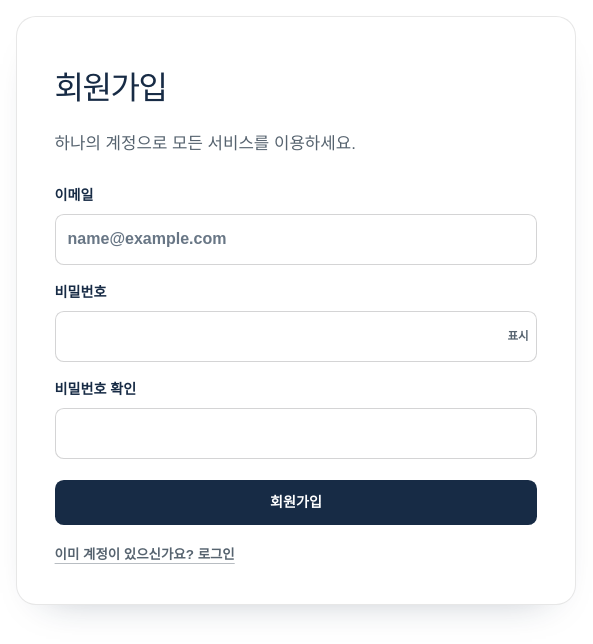
preserves signup confirmation-pending semantics
Type "student@example.test" into the field labelled "이메일" at [296, 240], box [55, 214, 537, 265]
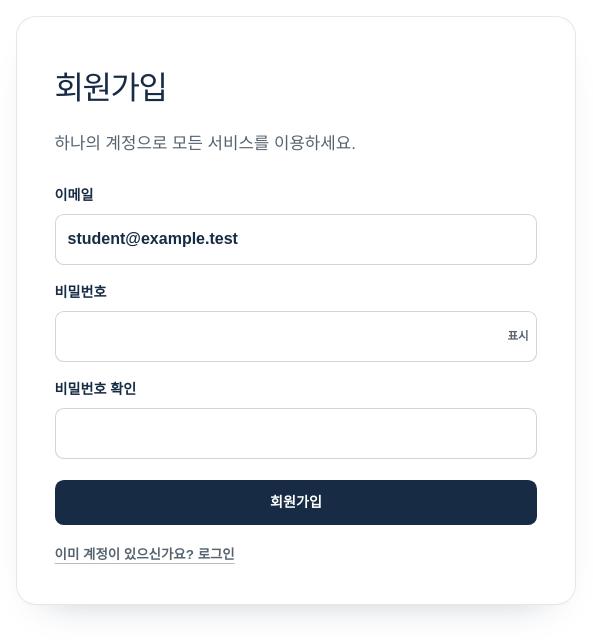
Type "test-password" into the password field labelled "비밀번호" at [296, 337], box [55, 311, 537, 362]
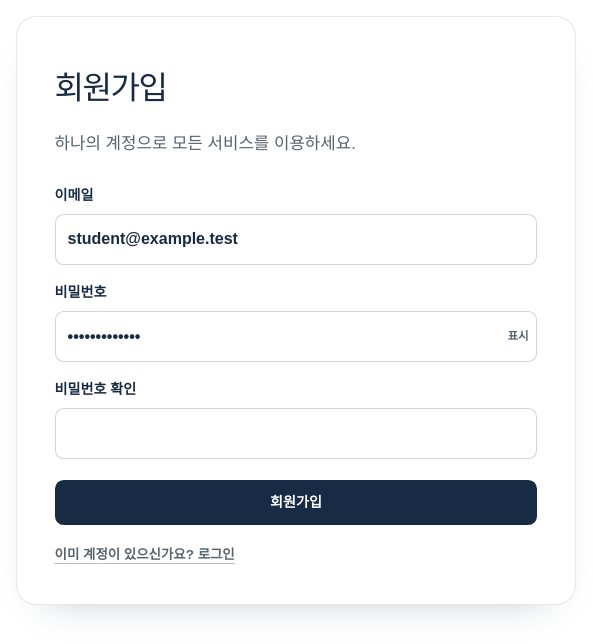
Type "test-password" into the password field labelled "비밀번호 확인" at [296, 434], box [55, 408, 537, 459]
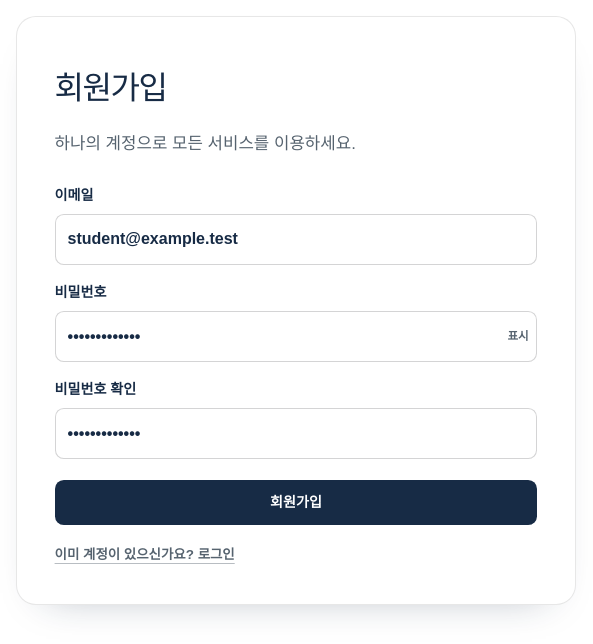
Click the button "회원가입" at [296, 503], box [55, 480, 537, 525]
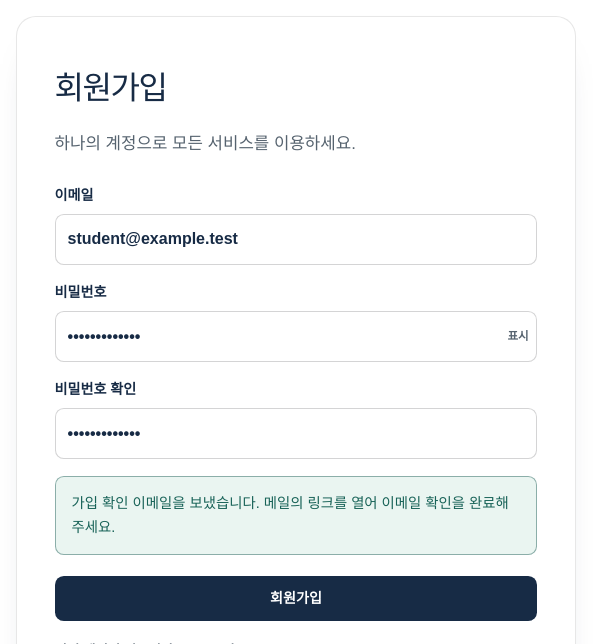
Result: the message shows "이메일 확인" at [72, 495, 509, 535]
